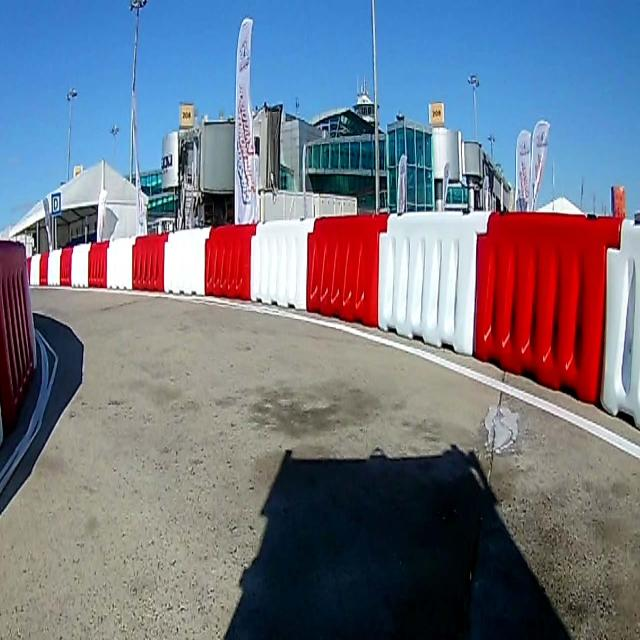durak: (51, 192, 61, 215)
